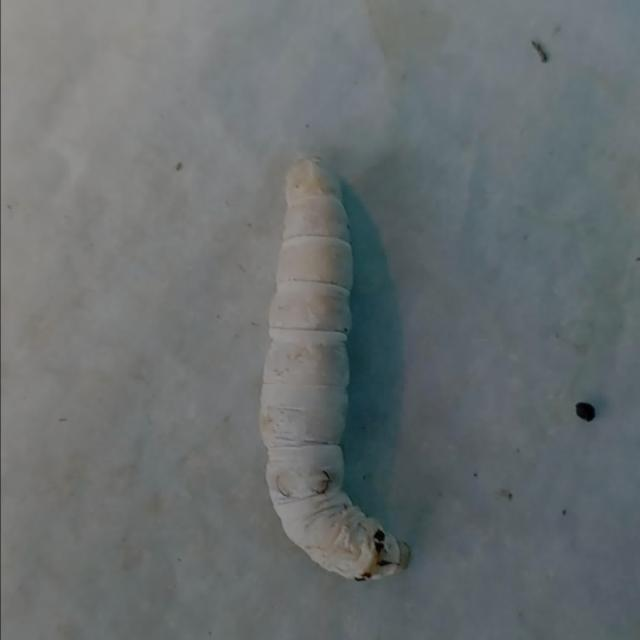Grasserie: (240, 139, 424, 593)
